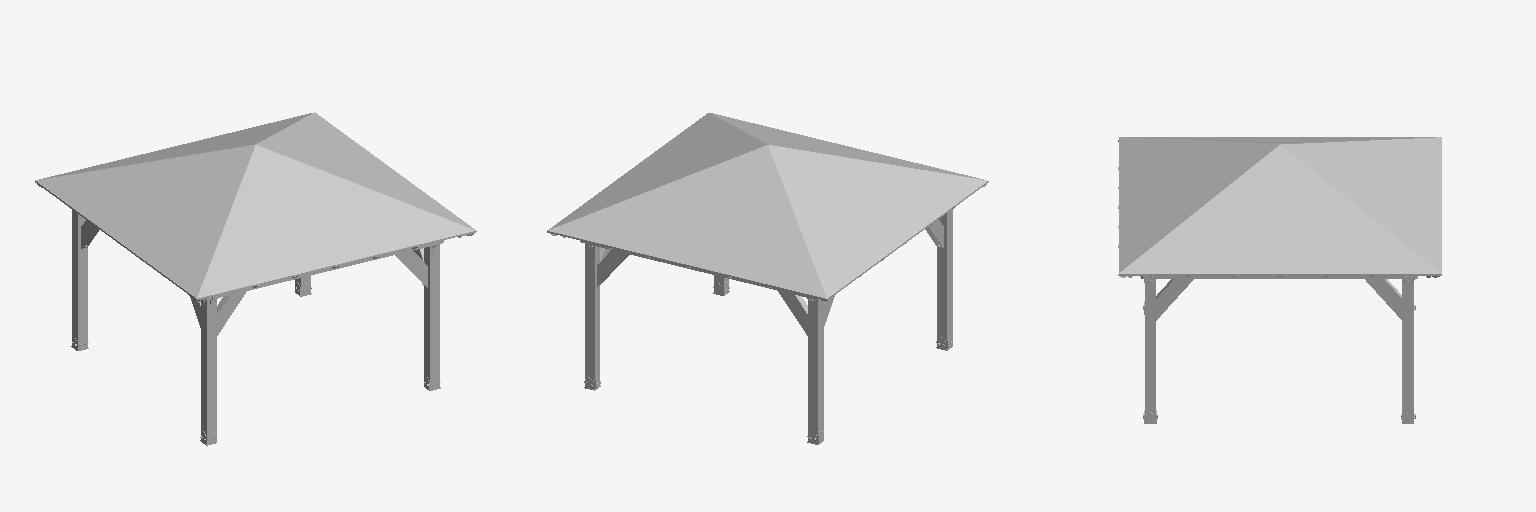
File: saratoga-14x14-ogee.obj
3 views of the same model, side by side, from view 1: azimuth 30°, elevation 25°; view 2: azimuth 150°, elevation 25°; view 3: azimuth 270°, elevation 25° (orthographic).
Parts seen in each view (by area): view 1: Mesh226 shingles roof Group1 Model, Mesh177 Group70 Component_92_4 Group1 Model, Mesh79 Group42 Component_92_2 Group1 Model, Mesh128 Group56 Component_92_3 Group1 Model, Mesh227 roof Group1 Model, Mesh75 Component_135_1 Group1 Model, Mesh217 Component_91_7 Component_92_4 Group1 Model, Mesh119 Component_91_3 Component_92_2 Group1 Model; view 2: Mesh226 shingles roof Group1 Model, Mesh128 Group56 Component_92_3 Group1 Model, Mesh1 Group3 Component_92_1 Group2 Group1 Model, Mesh177 Group70 Component_92_4 Group1 Model, Mesh227 roof Group1 Model, Mesh168 Component_91_5 Component_92_3 Group1 Model, Mesh41 Component_91_1 Component_92_1 Group2 Group1 Model; view 3: Mesh226 shingles roof Group1 Model, Mesh1 Group3 Component_92_1 Group2 Group1 Model, Mesh79 Group42 Component_92_2 Group1 Model, Mesh78 Component_134_2 Group1 Model, Mesh123 Component_91_4 Component_92_2 Group1 Model, Mesh45 Component_91_2 Component_92_1 Group2 Group1 Model, Mesh227 roof Group1 Model.
Boxes of the visible parts, x1=… form: Mesh226 shingles roof Group1 Model: x1=35, y1=112, x2=476, y2=298; Mesh177 Group70 Component_92_4 Group1 Model: x1=201, y1=299, x2=216, y2=443; Mesh79 Group42 Component_92_2 Group1 Model: x1=424, y1=244, x2=439, y2=389; Mesh128 Group56 Component_92_3 Group1 Model: x1=72, y1=210, x2=87, y2=349; Mesh227 roof Group1 Model: x1=35, y1=181, x2=476, y2=299; Mesh75 Component_135_1 Group1 Model: x1=204, y1=240, x2=443, y2=300; Mesh217 Component_91_7 Component_92_4 Group1 Model: x1=217, y1=291, x2=246, y2=335; Mesh119 Component_91_3 Component_92_2 Group1 Model: x1=395, y1=251, x2=427, y2=287; Mesh226 shingles roof Group1 Model: x1=547, y1=113, x2=987, y2=298; Mesh128 Group56 Component_92_3 Group1 Model: x1=808, y1=299, x2=823, y2=443; Mesh1 Group3 Component_92_1 Group2 Group1 Model: x1=585, y1=244, x2=599, y2=388; Mesh177 Group70 Component_92_4 Group1 Model: x1=937, y1=209, x2=952, y2=348; Mesh227 roof Group1 Model: x1=547, y1=181, x2=988, y2=300; Mesh168 Component_91_5 Component_92_3 Group1 Model: x1=778, y1=291, x2=807, y2=335; Mesh41 Component_91_1 Component_92_1 Group2 Group1 Model: x1=597, y1=250, x2=629, y2=286; Mesh226 shingles roof Group1 Model: x1=1119, y1=137, x2=1441, y2=273; Mesh1 Group3 Component_92_1 Group2 Group1 Model: x1=1402, y1=279, x2=1413, y2=422; Mesh79 Group42 Component_92_2 Group1 Model: x1=1145, y1=279, x2=1155, y2=422; Mesh78 Component_134_2 Group1 Model: x1=1148, y1=276, x2=1402, y2=278; Mesh123 Component_91_4 Component_92_2 Group1 Model: x1=1156, y1=279, x2=1193, y2=320; Mesh45 Component_91_2 Component_92_1 Group2 Group1 Model: x1=1365, y1=279, x2=1401, y2=319; Mesh227 roof Group1 Model: x1=1119, y1=274, x2=1441, y2=275.
Bounding box in the file's own units: 168 × 128 × 168.